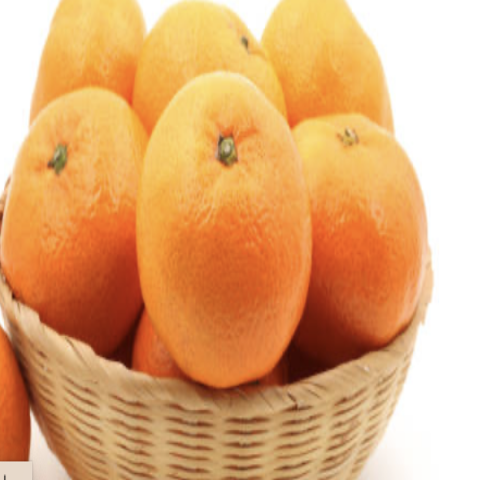orange: (131, 61, 323, 386), (262, 93, 464, 358), (3, 64, 157, 388)
